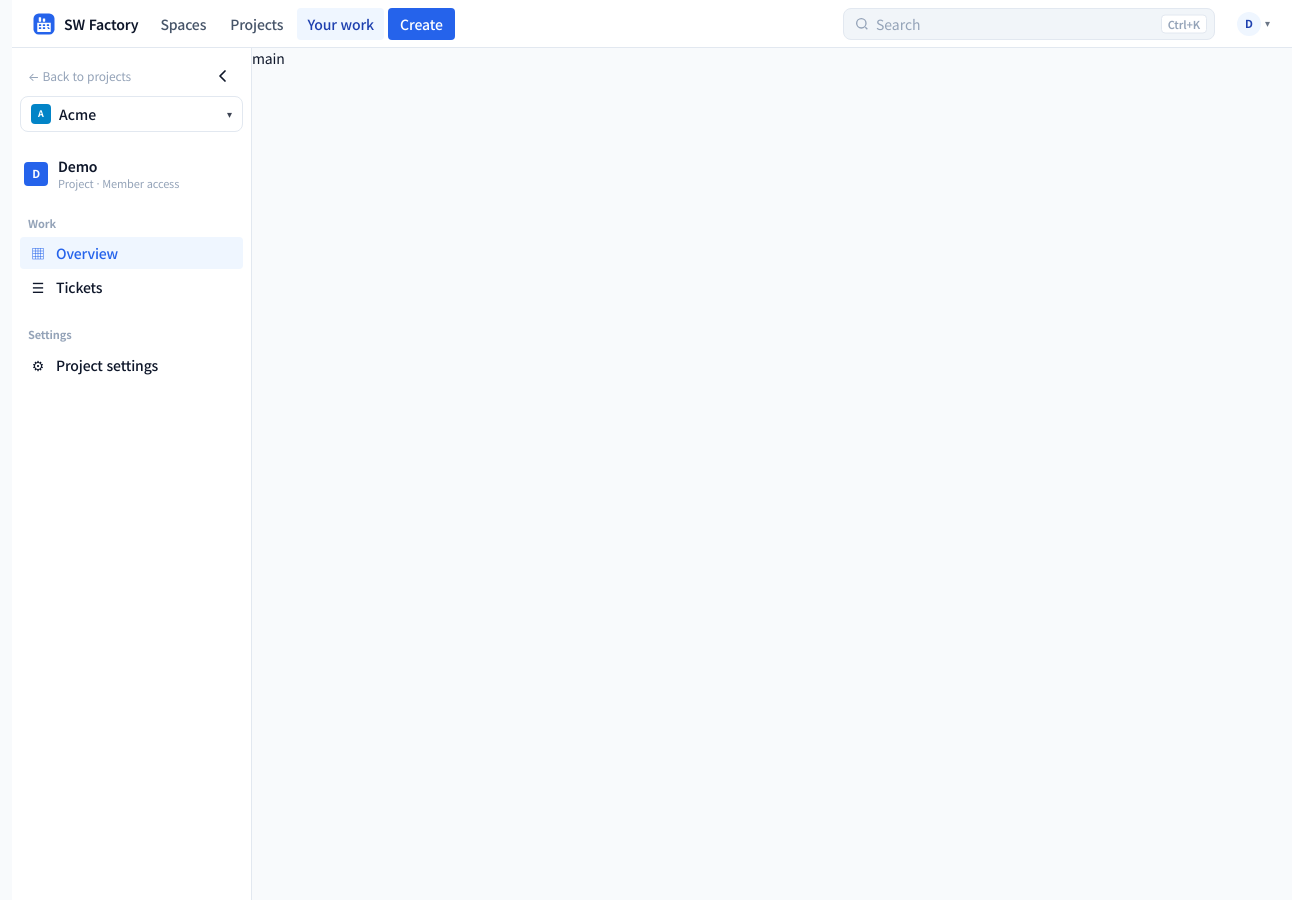
Test: AppChrome sidebar collapse › restores the full sidebar after Expand
expect the link "▦ Overview" is shown: met, box [20, 237, 243, 269]
Click the button named "Collapse sidebar" at (223, 76), box [203, 56, 243, 96]
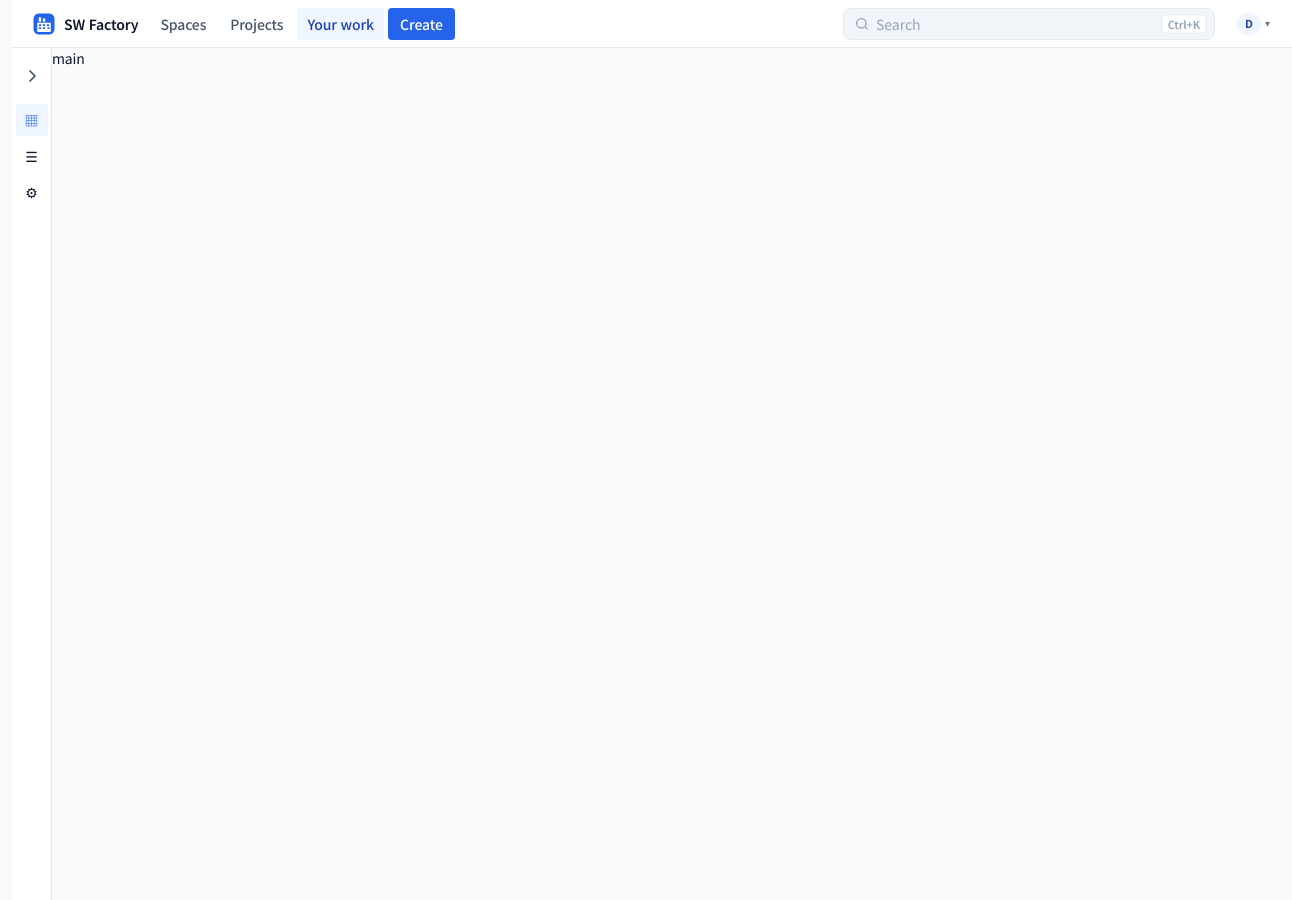
expect the link "Overview" no longer shows "Overview": met
Click the button named "Expand sidebar" at (32, 76), box [12, 56, 52, 96]
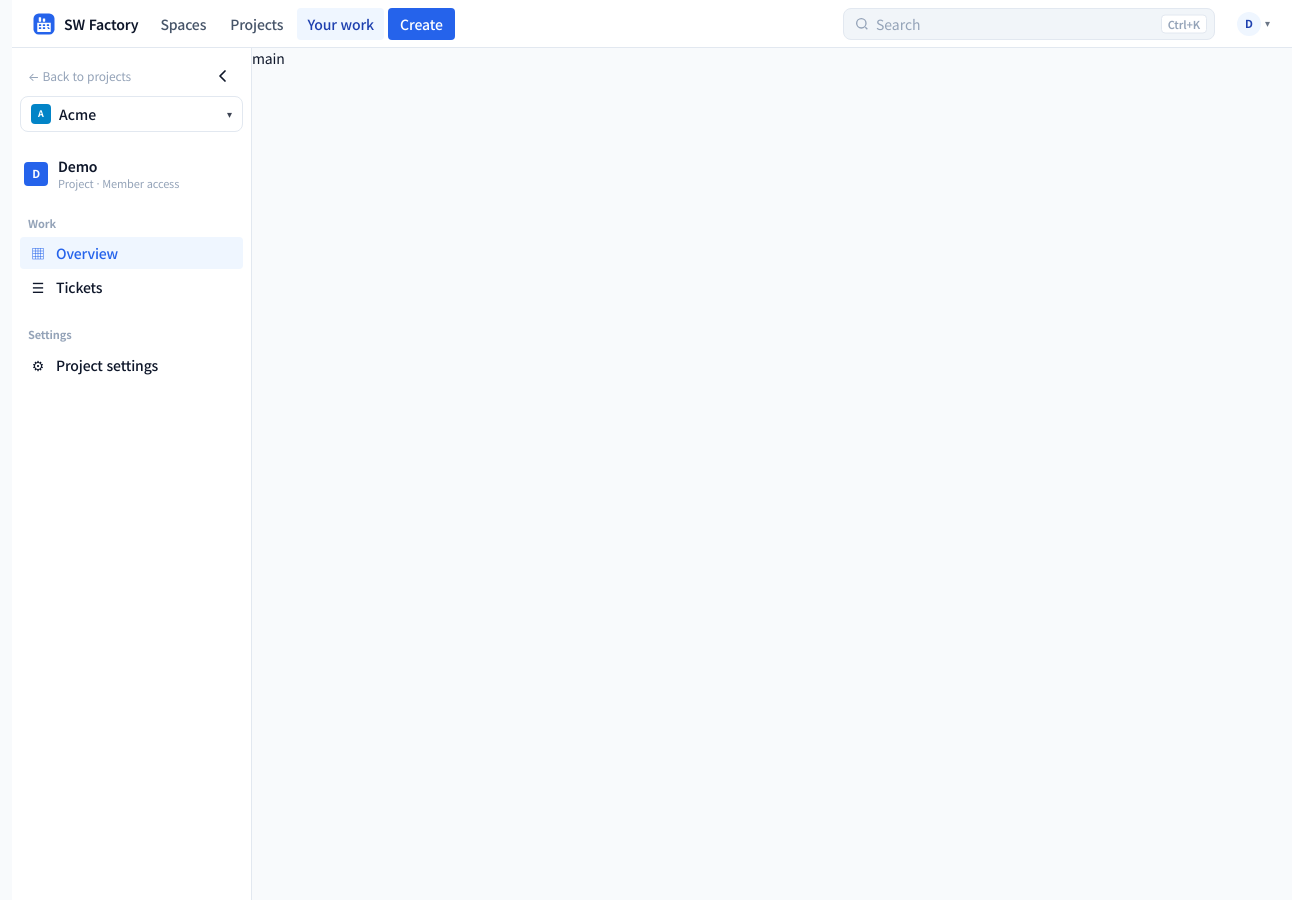
expect the link "▦ Overview" is shown: met, box [20, 237, 243, 269]
